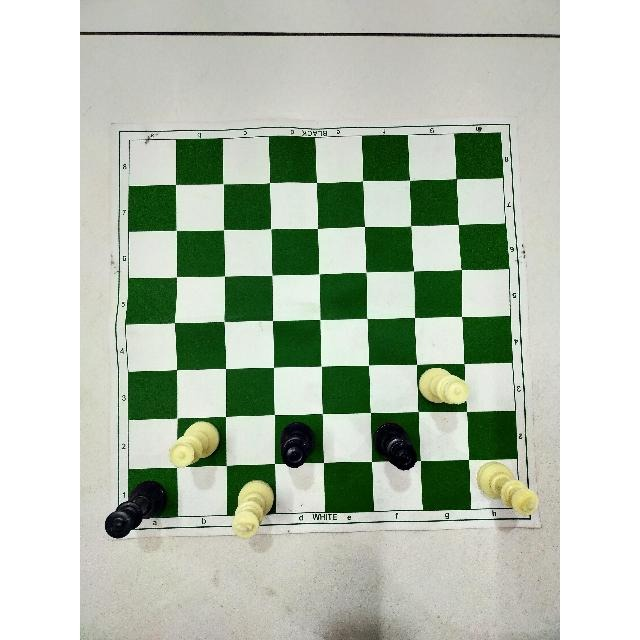black-king: (102, 478, 170, 542), (105, 479, 169, 542)
black-queen: (370, 413, 421, 477), (371, 418, 418, 472), (274, 419, 320, 473), (277, 420, 318, 472)
white-king: (472, 458, 548, 524), (474, 460, 543, 522), (227, 473, 280, 543), (229, 478, 278, 541)
white-queen: (165, 419, 222, 473), (166, 421, 222, 471), (418, 362, 474, 412), (416, 364, 472, 413)
